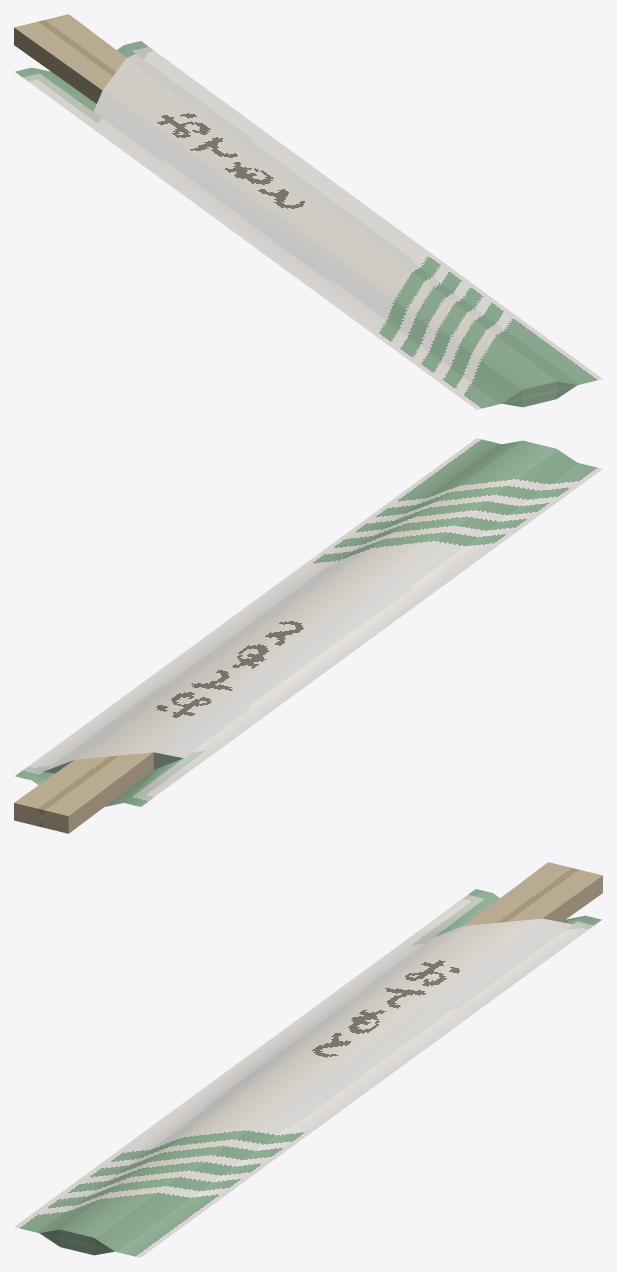
Rendered from 052b_Chopsticks.glb.
The picture shows the model from 3 angles, top to bottom: view 1: azimuth 30°, elevation 25°; view 2: azimuth 150°, elevation 25°; view 3: azimuth 330°, elevation 25°; orthographic projection.
Parts seen in each view (by area): view 1: part_0; view 2: part_0; view 3: part_0.
Boxes of the visible parts, bbox=[...] form: part_0: bbox=[14, 14, 602, 409]; part_0: bbox=[14, 438, 602, 833]; part_0: bbox=[14, 862, 602, 1257].
Bounding box in the file's own units: 0.03 × 0.004 × 0.205.
Materials: 1 (1 with a texture image).
